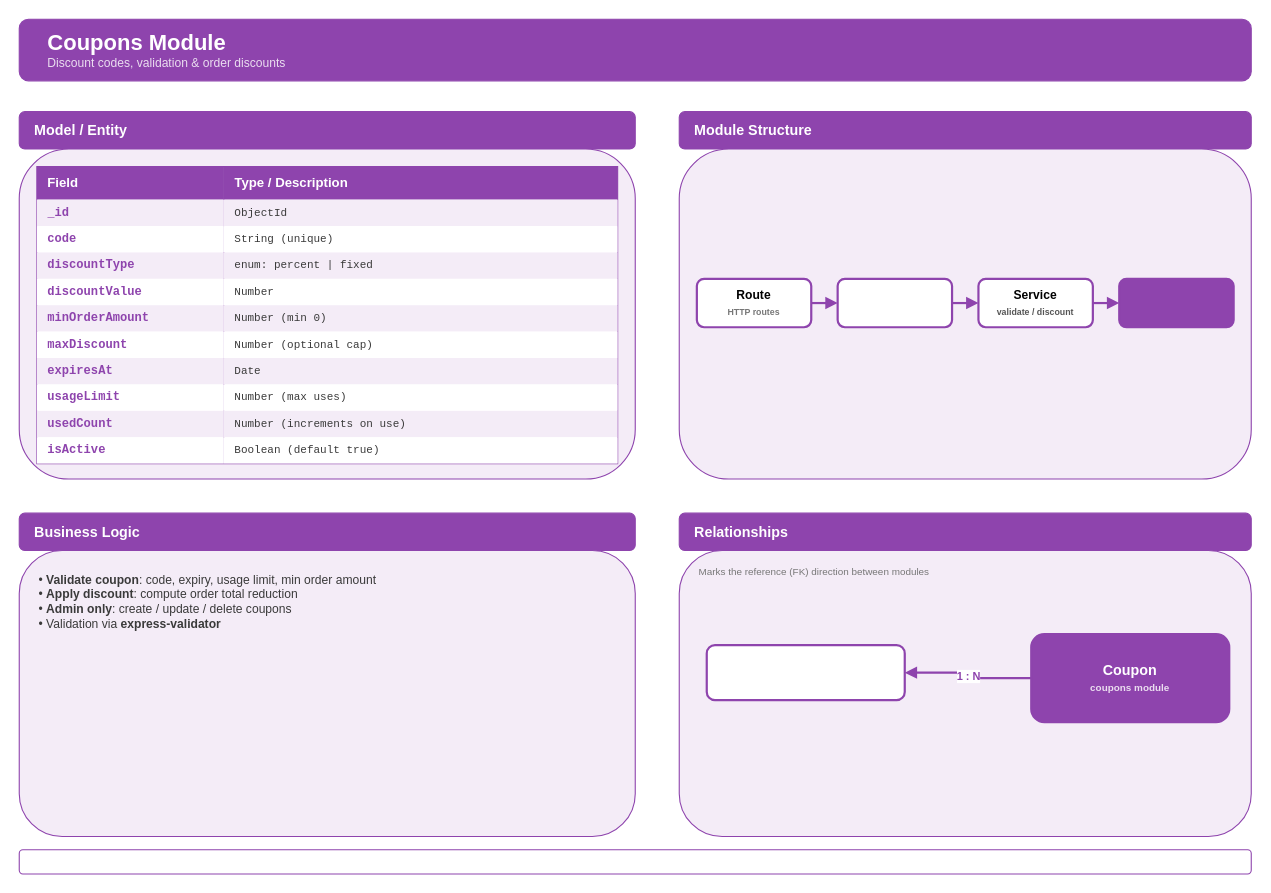
The diagram is 1271 pixels wide and 893 high, and some of its shapes have lost their labels. The box of each missing label's shape, as (x1, y1, x2, y2) in pixels:
Controller request logic: (836, 277, 953, 328)
Model Mongoose schema: (1118, 277, 1234, 328)
On Store API · Coupons Module Overview: (18, 849, 1251, 874)
Orders orders.coupon ref: (705, 644, 905, 701)
